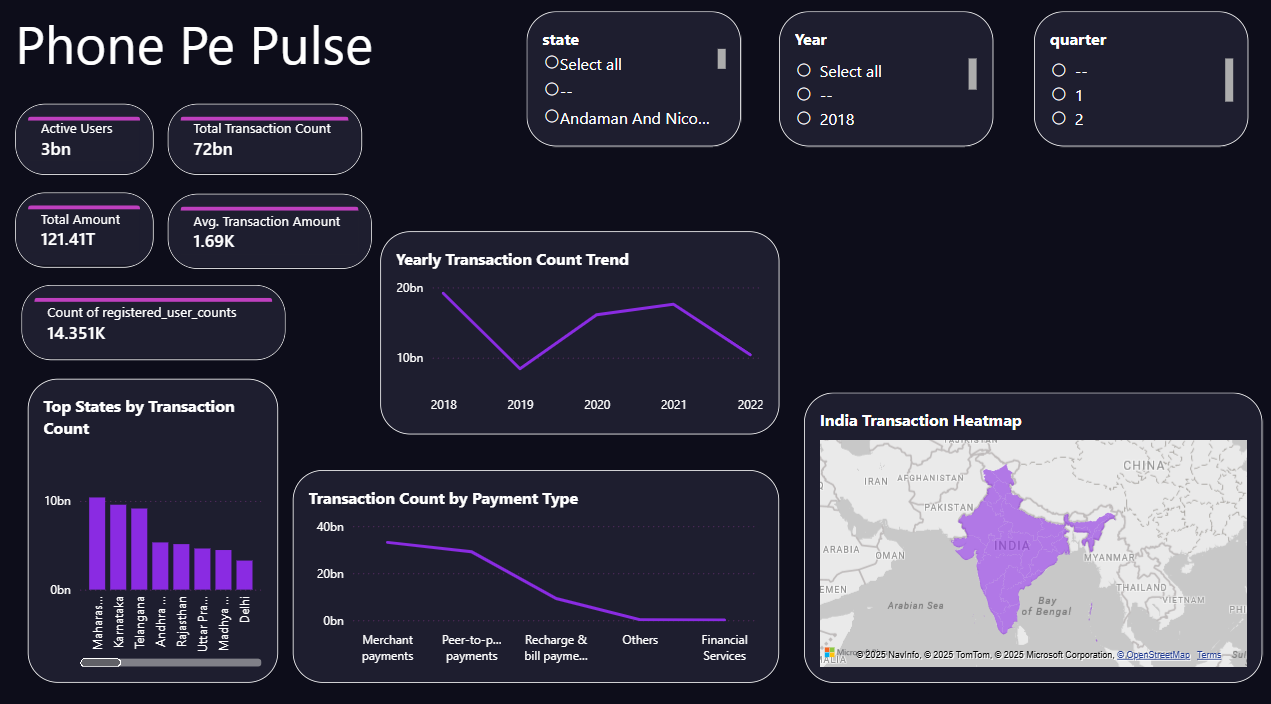

Layout of this report page (visuals, bound fields, positions):
{"tool":"powerbi","page":{"name":"Page 1","canvas":[1280,720],"ordinal":0},"visuals":[{"type":"filledMap","title":"India Transaction Heatmap","fields":{"Category":["cleaned_aggregated_transaction (1).state","top_user_cleaned.district"]},"box":[810.4,392,458.7,290.5],"z":0},{"type":"cardVisual","fields":{"Data":["cleaned_aggregated_transaction (1).Active Users"]},"box":[20.9,104.3,138.7,71.2],"z":1000},{"type":"cardVisual","fields":{"Data":["cleaned_aggregated_transaction (1).Total Amount"]},"box":[20.9,192.6,138.7,74.8],"z":2000},{"type":"cardVisual","title":"Add visual title here","fields":{"Data":["cleaned_aggregated_transaction (1).Average Amount"]},"box":[173.8,193.2,204.3,75.1],"z":3000},{"type":"cardVisual","fields":{"Data":["Sum(cleaned_aggregated_transaction (1).trans_counts)"]},"box":[173.8,104.3,194.6,70.9],"z":4000},{"type":"cardVisual","fields":{"Data":["Count(cleaned_map_user_shared.registered_user_counts)"]},"box":[27.8,285,264.1,75.1],"z":5000},{"type":"lineChart","title":"Transaction Count by Payment Type","fields":{"Category":["cleaned_aggregated_transaction (1).trans_type"],"Y":["Sum(cleaned_aggregated_transaction (1).trans_counts)"]},"box":[298.9,469.9,486.5,212.7],"z":6000},{"type":"listSlicer","title":"Year","fields":{"Values":["cleaned_aggregated_transaction (1).year"]},"box":[785.4,11.1,214.1,134.8],"z":7000},{"type":"textbox","box":[21.4,5.7,387.1,105.7],"z":8000},{"type":"lineChart","title":"Yearly Transaction Count Trend","fields":{"Category":["top_user_cleaned.year"],"Y":["Sum(cleaned_aggregated_transaction (1).trans_counts)"]},"box":[386.4,230.8,399,203],"z":9000},{"type":"columnChart","title":"Top States by Transaction Count","fields":{"Y":["Sum(cleaned_aggregated_transaction (1).trans_counts)"],"Category":["cleaned_aggregated_transaction (1).state"]},"box":[34.3,378.6,250,304.3],"z":10000},{"type":"listSlicer","fields":{"Values":["cleaned_aggregated_transaction (1).state"]},"box":[532.4,11.1,214.1,134.8],"z":11000},{"type":"listSlicer","fields":{"Values":["top_user_cleaned.quarter"]},"box":[1039.8,11.1,214.1,134.8],"z":12000}]}

Visuals, with their boxes in screenshot pixels (x1, y1, x2, y2), scaled from the page's 1280x720 canvas onto the 1271x704 screenshot:
"India Transaction Heatmap" filledMap: 805:383:1260:667
cardVisual - cleaned_aggregated_transaction (1).Active Users: 21:102:158:172
cardVisual - cleaned_aggregated_transaction (1).Total Amount: 21:188:158:261
"Add visual title here" cardVisual: 173:189:375:262
cardVisual - Sum(cleaned_aggregated_transaction (1).trans_counts): 173:102:366:171
cardVisual - Count(cleaned_map_user_shared.registered_user_counts): 28:279:290:352
"Transaction Count by Payment Type" lineChart: 297:459:780:667
"Year" listSlicer: 780:11:992:143
textbox: 21:6:406:109
"Yearly Transaction Count Trend" lineChart: 384:226:780:424
"Top States by Transaction Count" columnChart: 34:370:282:668
listSlicer - cleaned_aggregated_transaction (1).state: 529:11:741:143
listSlicer - top_user_cleaned.quarter: 1032:11:1245:143
